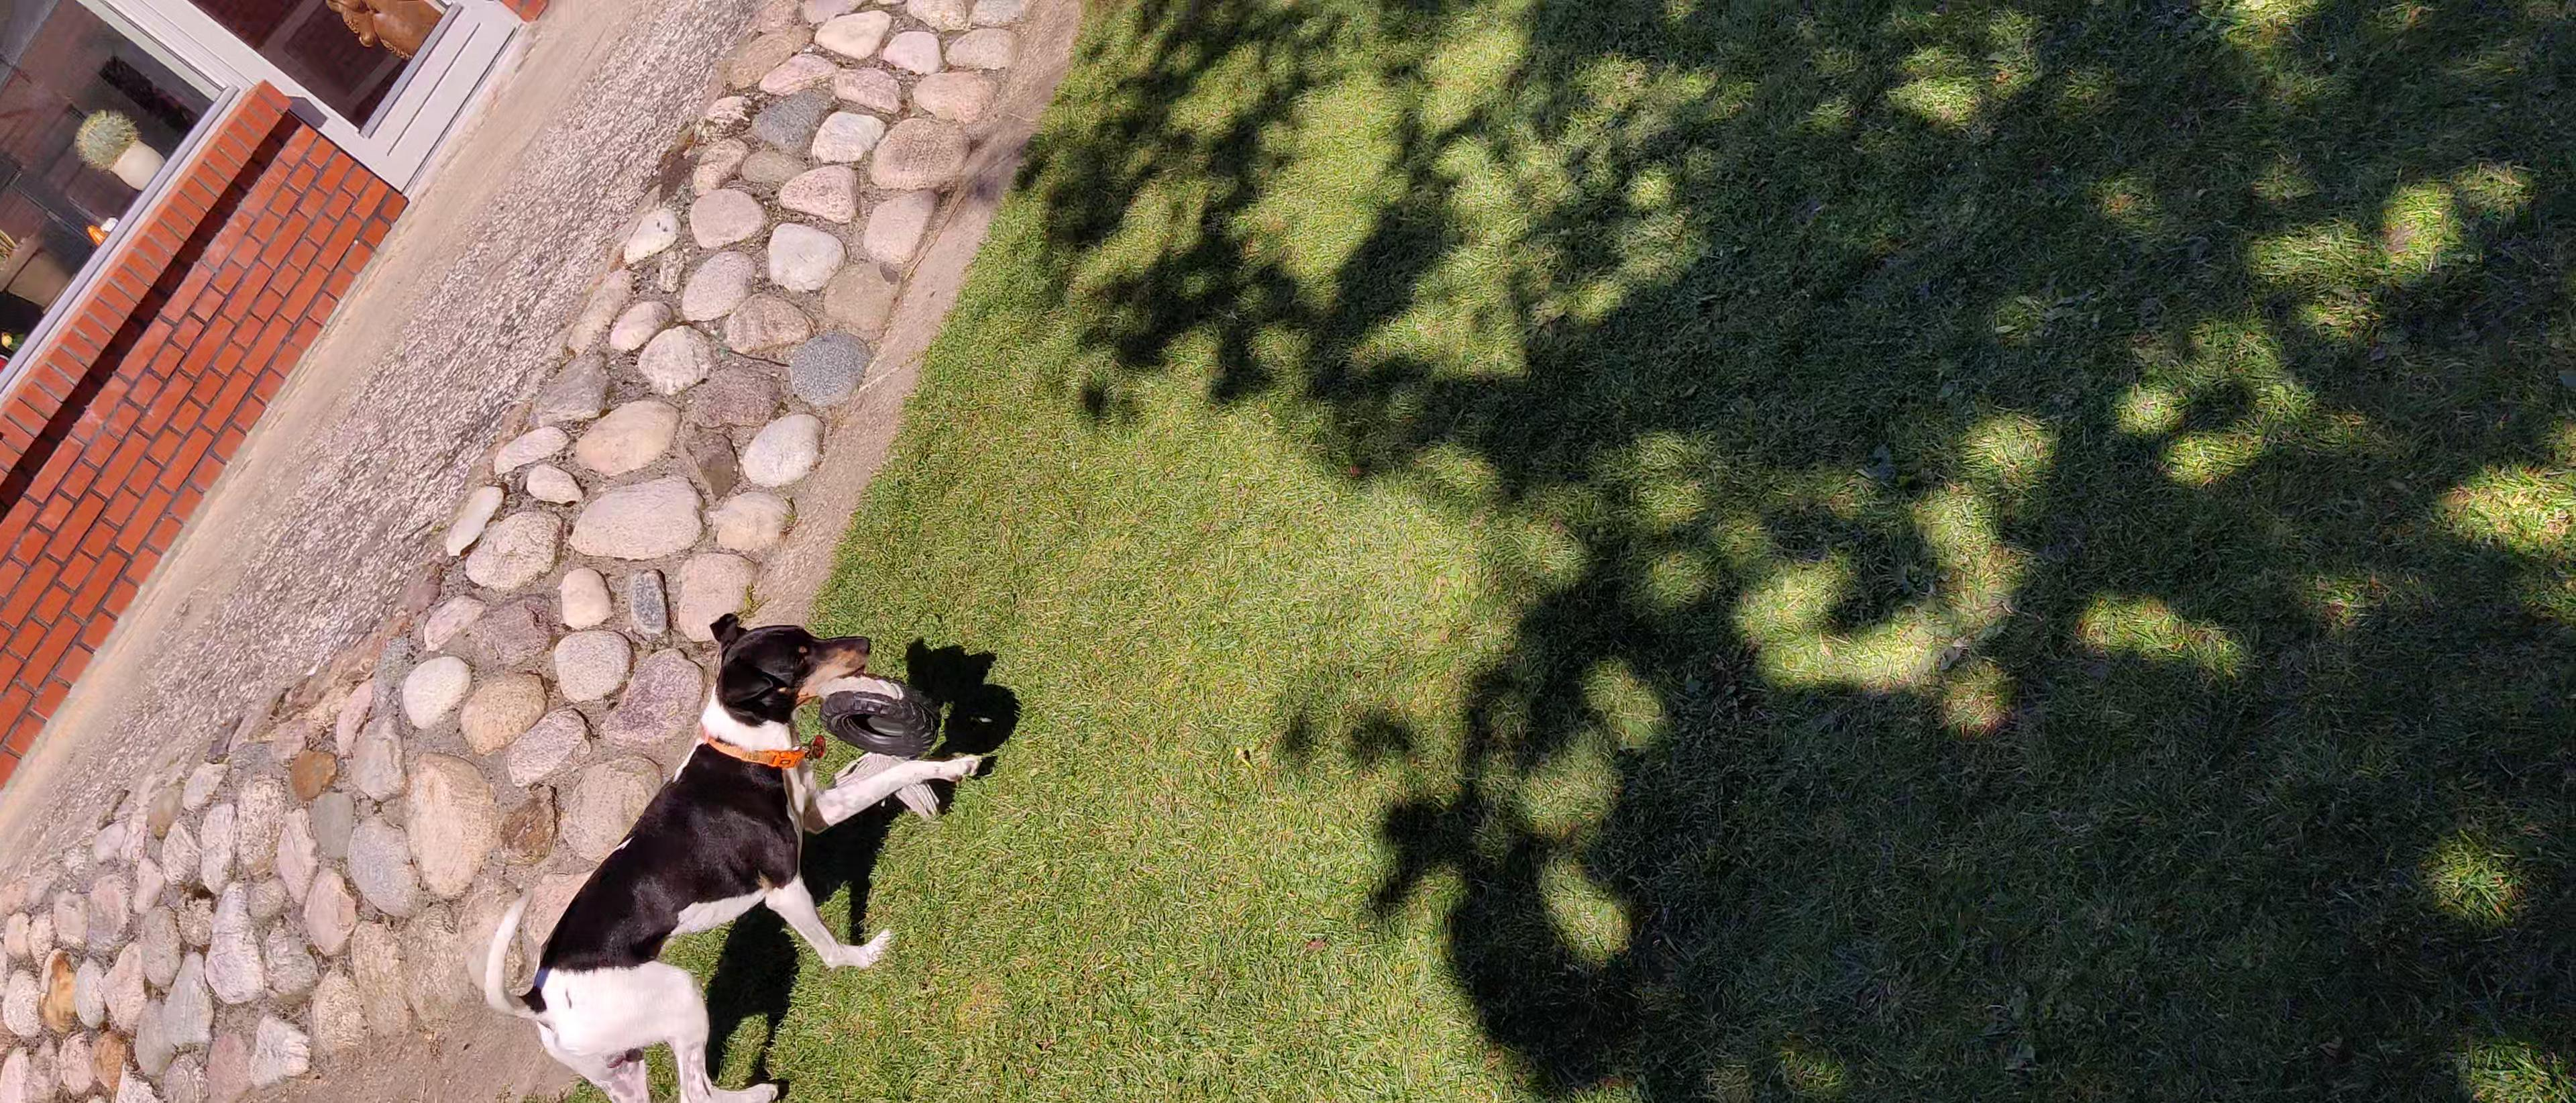Dog: (478, 607, 984, 1103)
